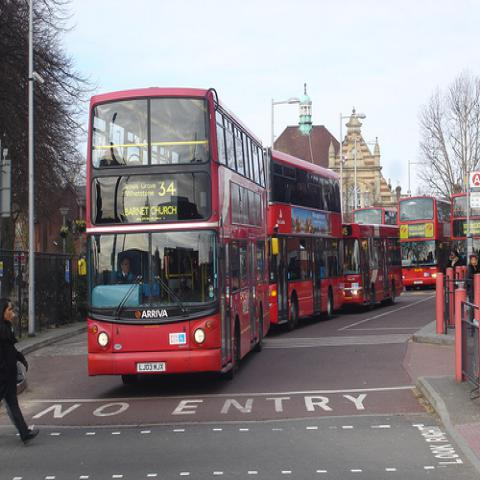bus: (87, 88, 271, 388), (269, 147, 346, 334), (396, 196, 452, 290), (345, 222, 404, 308), (451, 190, 479, 264)
